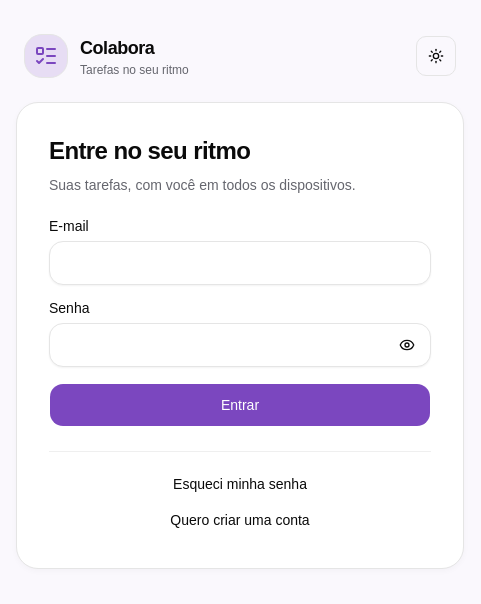
Test: shows authentication errors without loading private data
Expected: the heading "Entre no seu ritmo" is shown, [49,136,250,164]
Type "alice@example.test" into the field labelled "E-mail" at (240, 262), box [49,240,431,284]
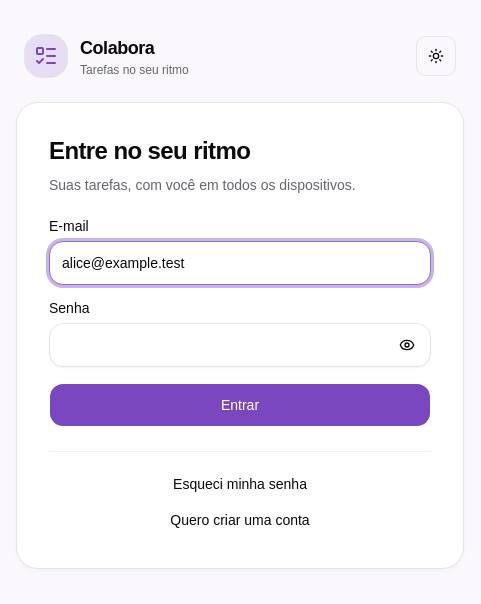
Type "safe-test-password" into the password field labelled "Senha" at (240, 344), box [49,322,431,366]
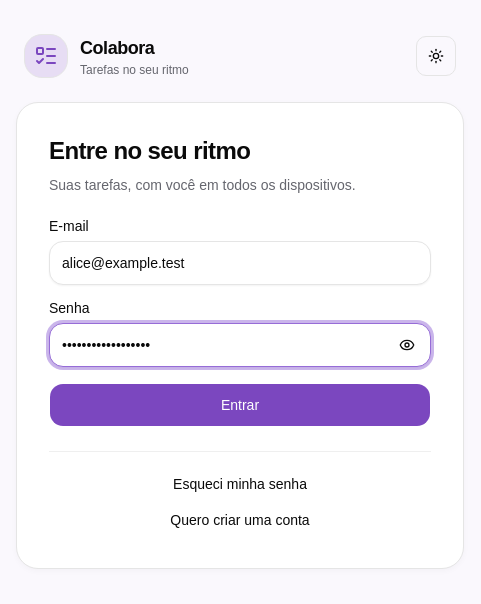
Click the button "Entrar" at (240, 404), box [49,382,431,426]
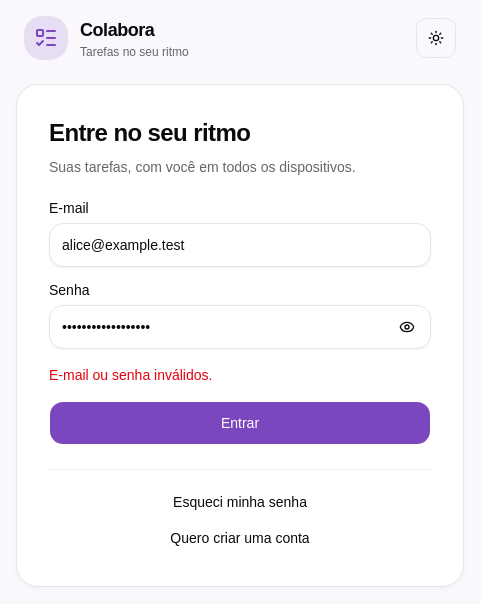
Expected: the message shows "E-mail ou senha inválidos", [49,366,212,382]
